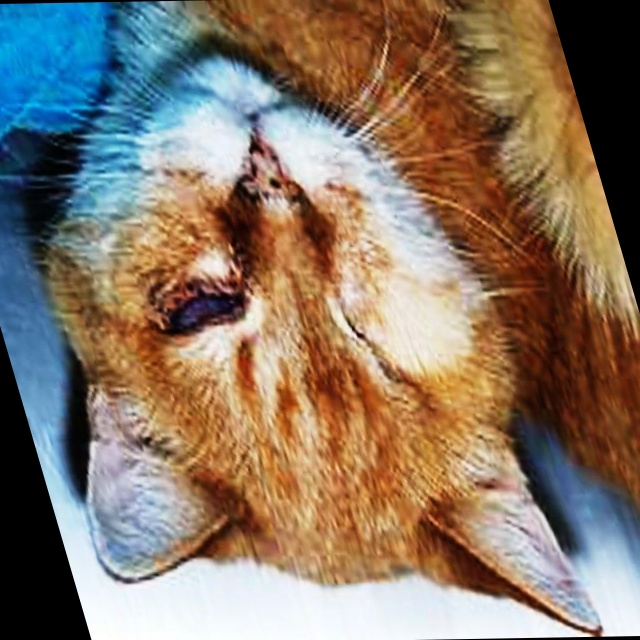eye_infection: (149, 279, 242, 326)
